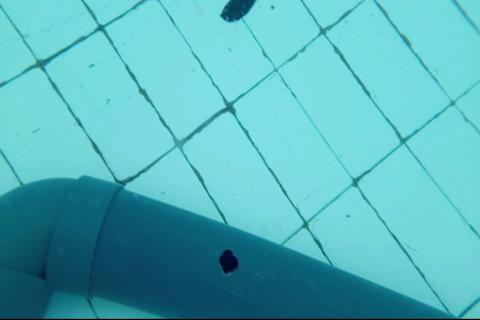kebocoran: (217, 248, 239, 275)
